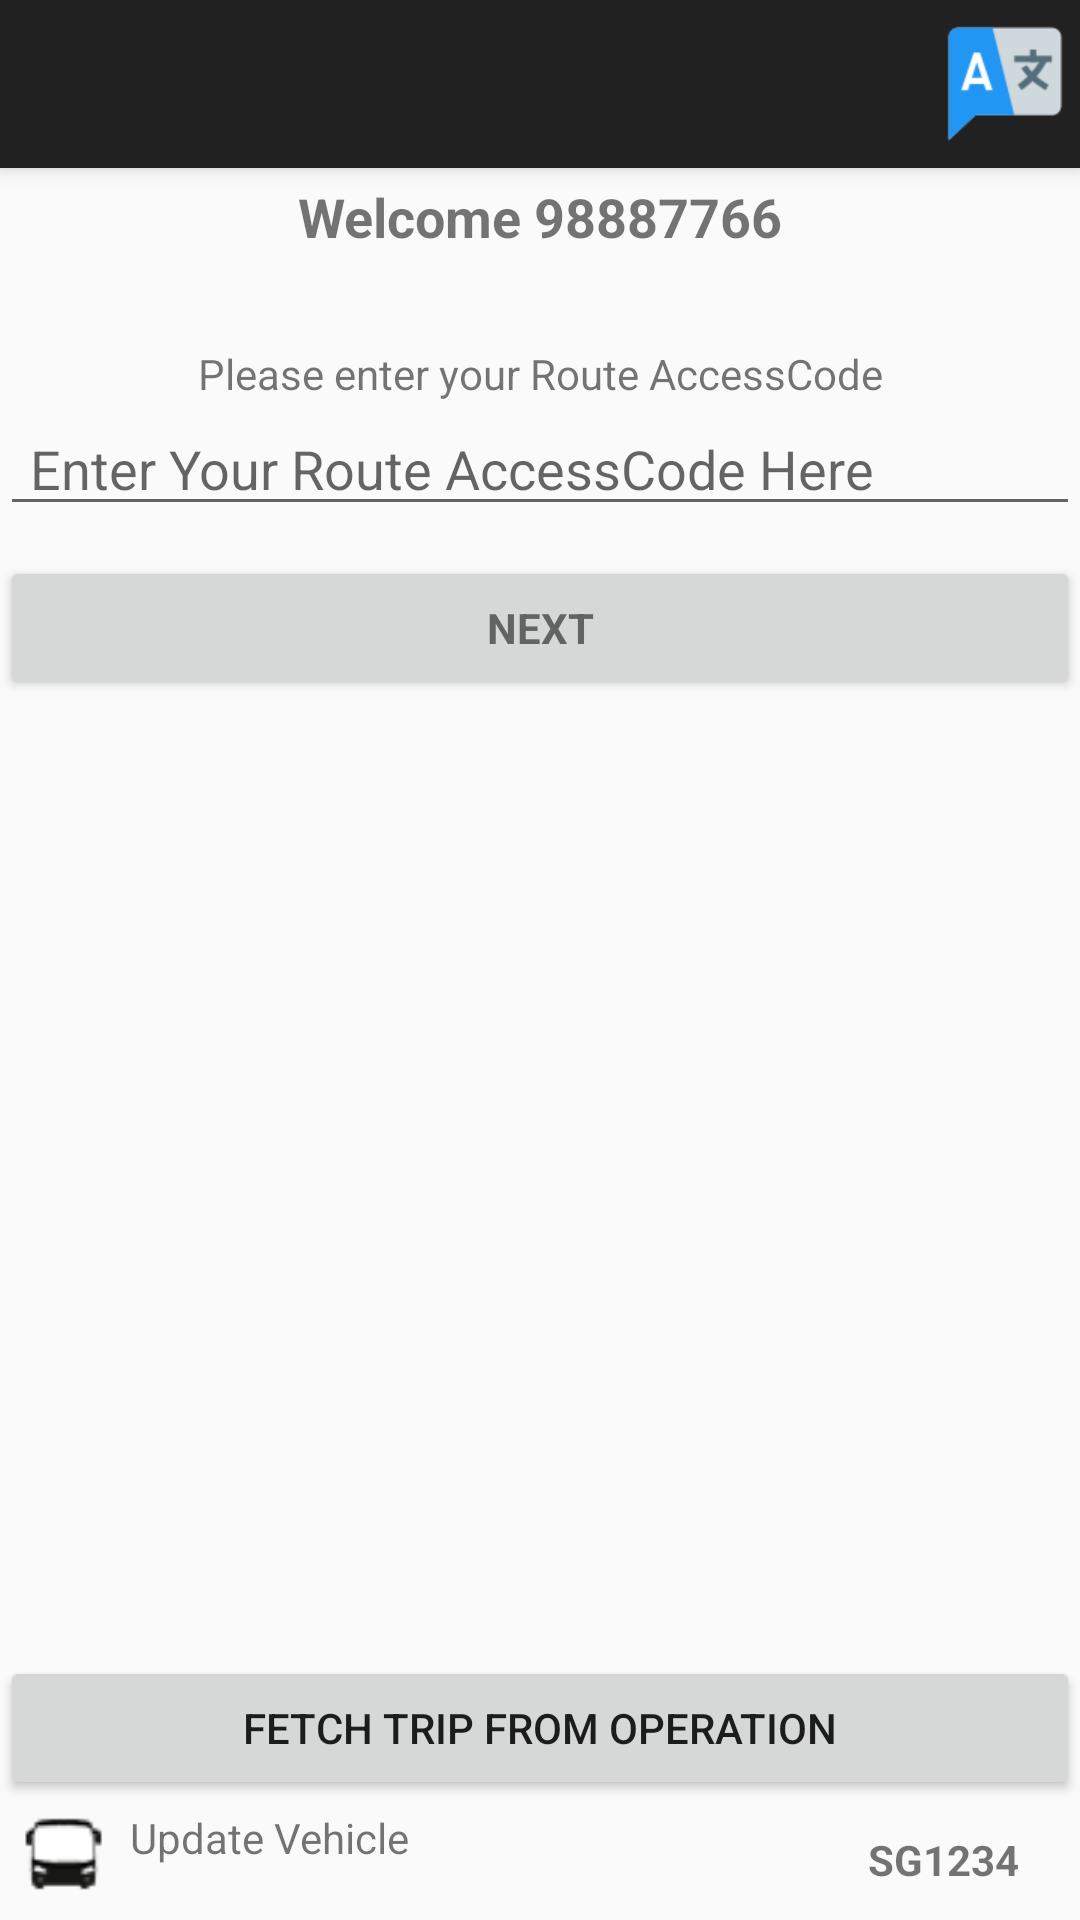

Screen size 1080*1920. Icon name, then its box in pixels as (x1, y1, x2, y2):
bus type: (25, 1818, 102, 1890)
